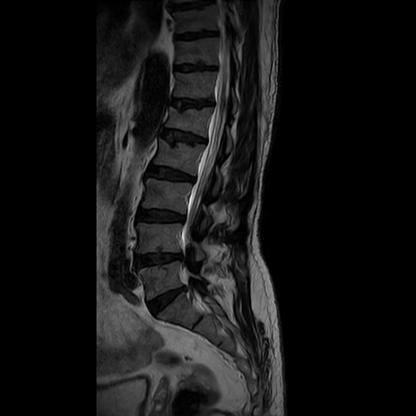Annular Disc Relaxationrotation: (159, 127, 207, 153), (146, 164, 198, 186)
Disc Bulgerotation: (146, 285, 193, 317), (134, 249, 180, 272)
